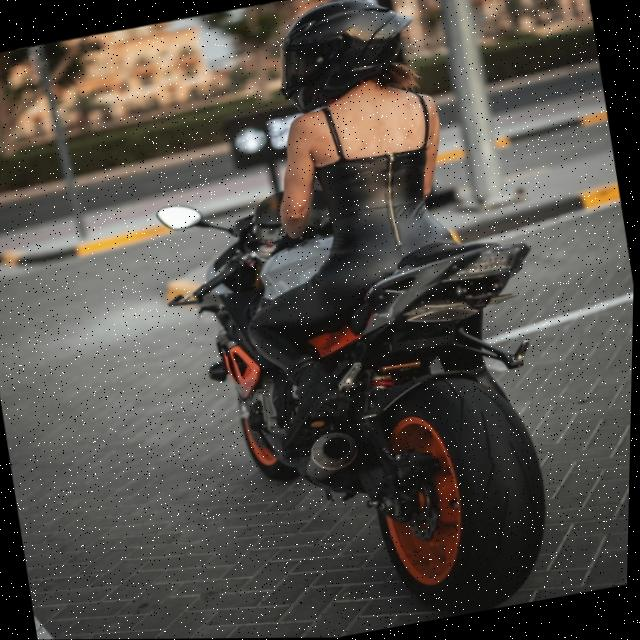helmet: (262, 0, 431, 120)
